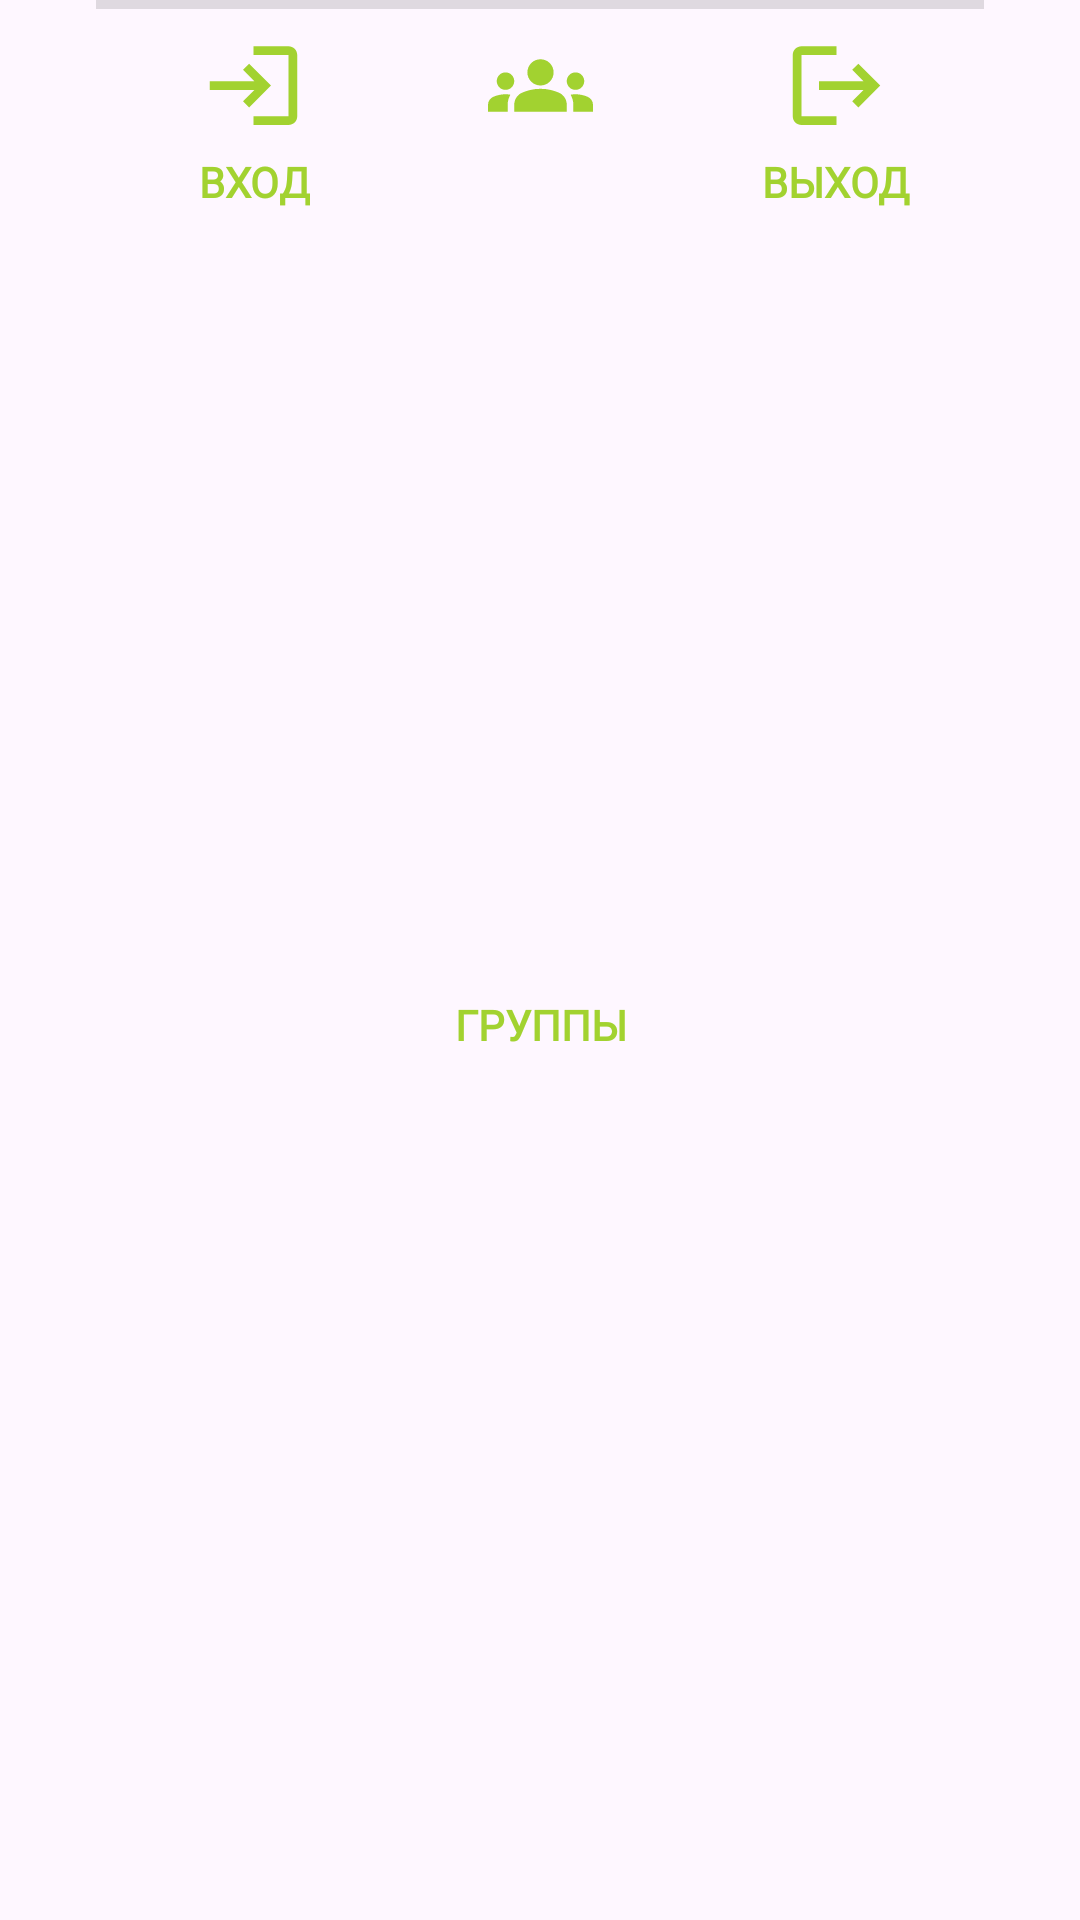

Where to tap for icons on this 1080 x 1920 app screen, as (x=x, y=y):
groups: (x=540, y=85)
